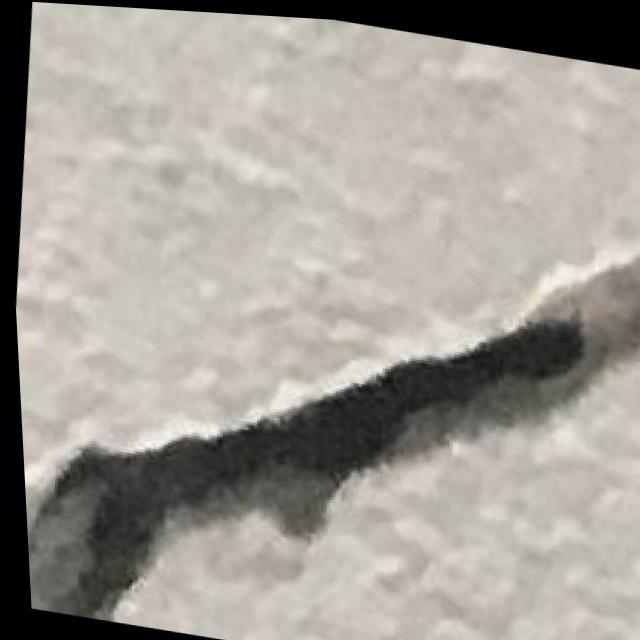Crack: (5, 134, 640, 640)
